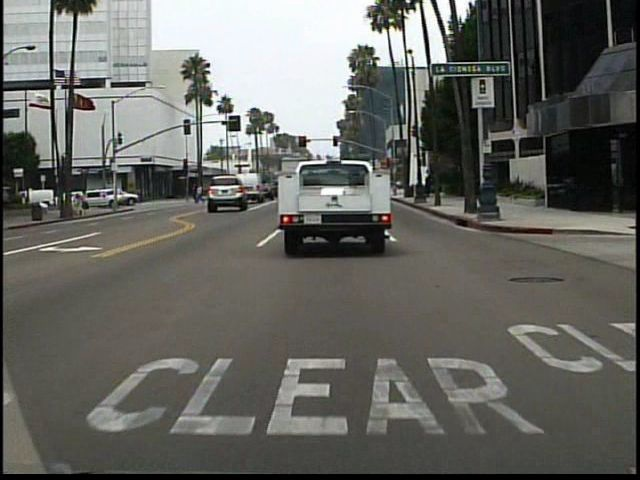person: (80, 187, 93, 212)
